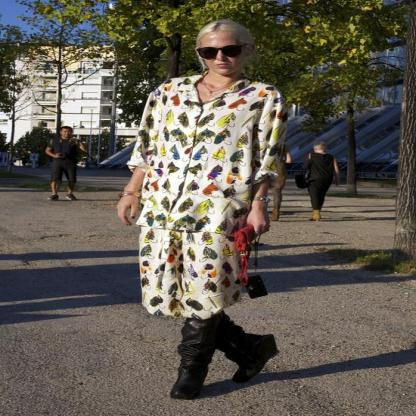shirt: (128, 72, 288, 236)
short: (133, 224, 249, 319)
